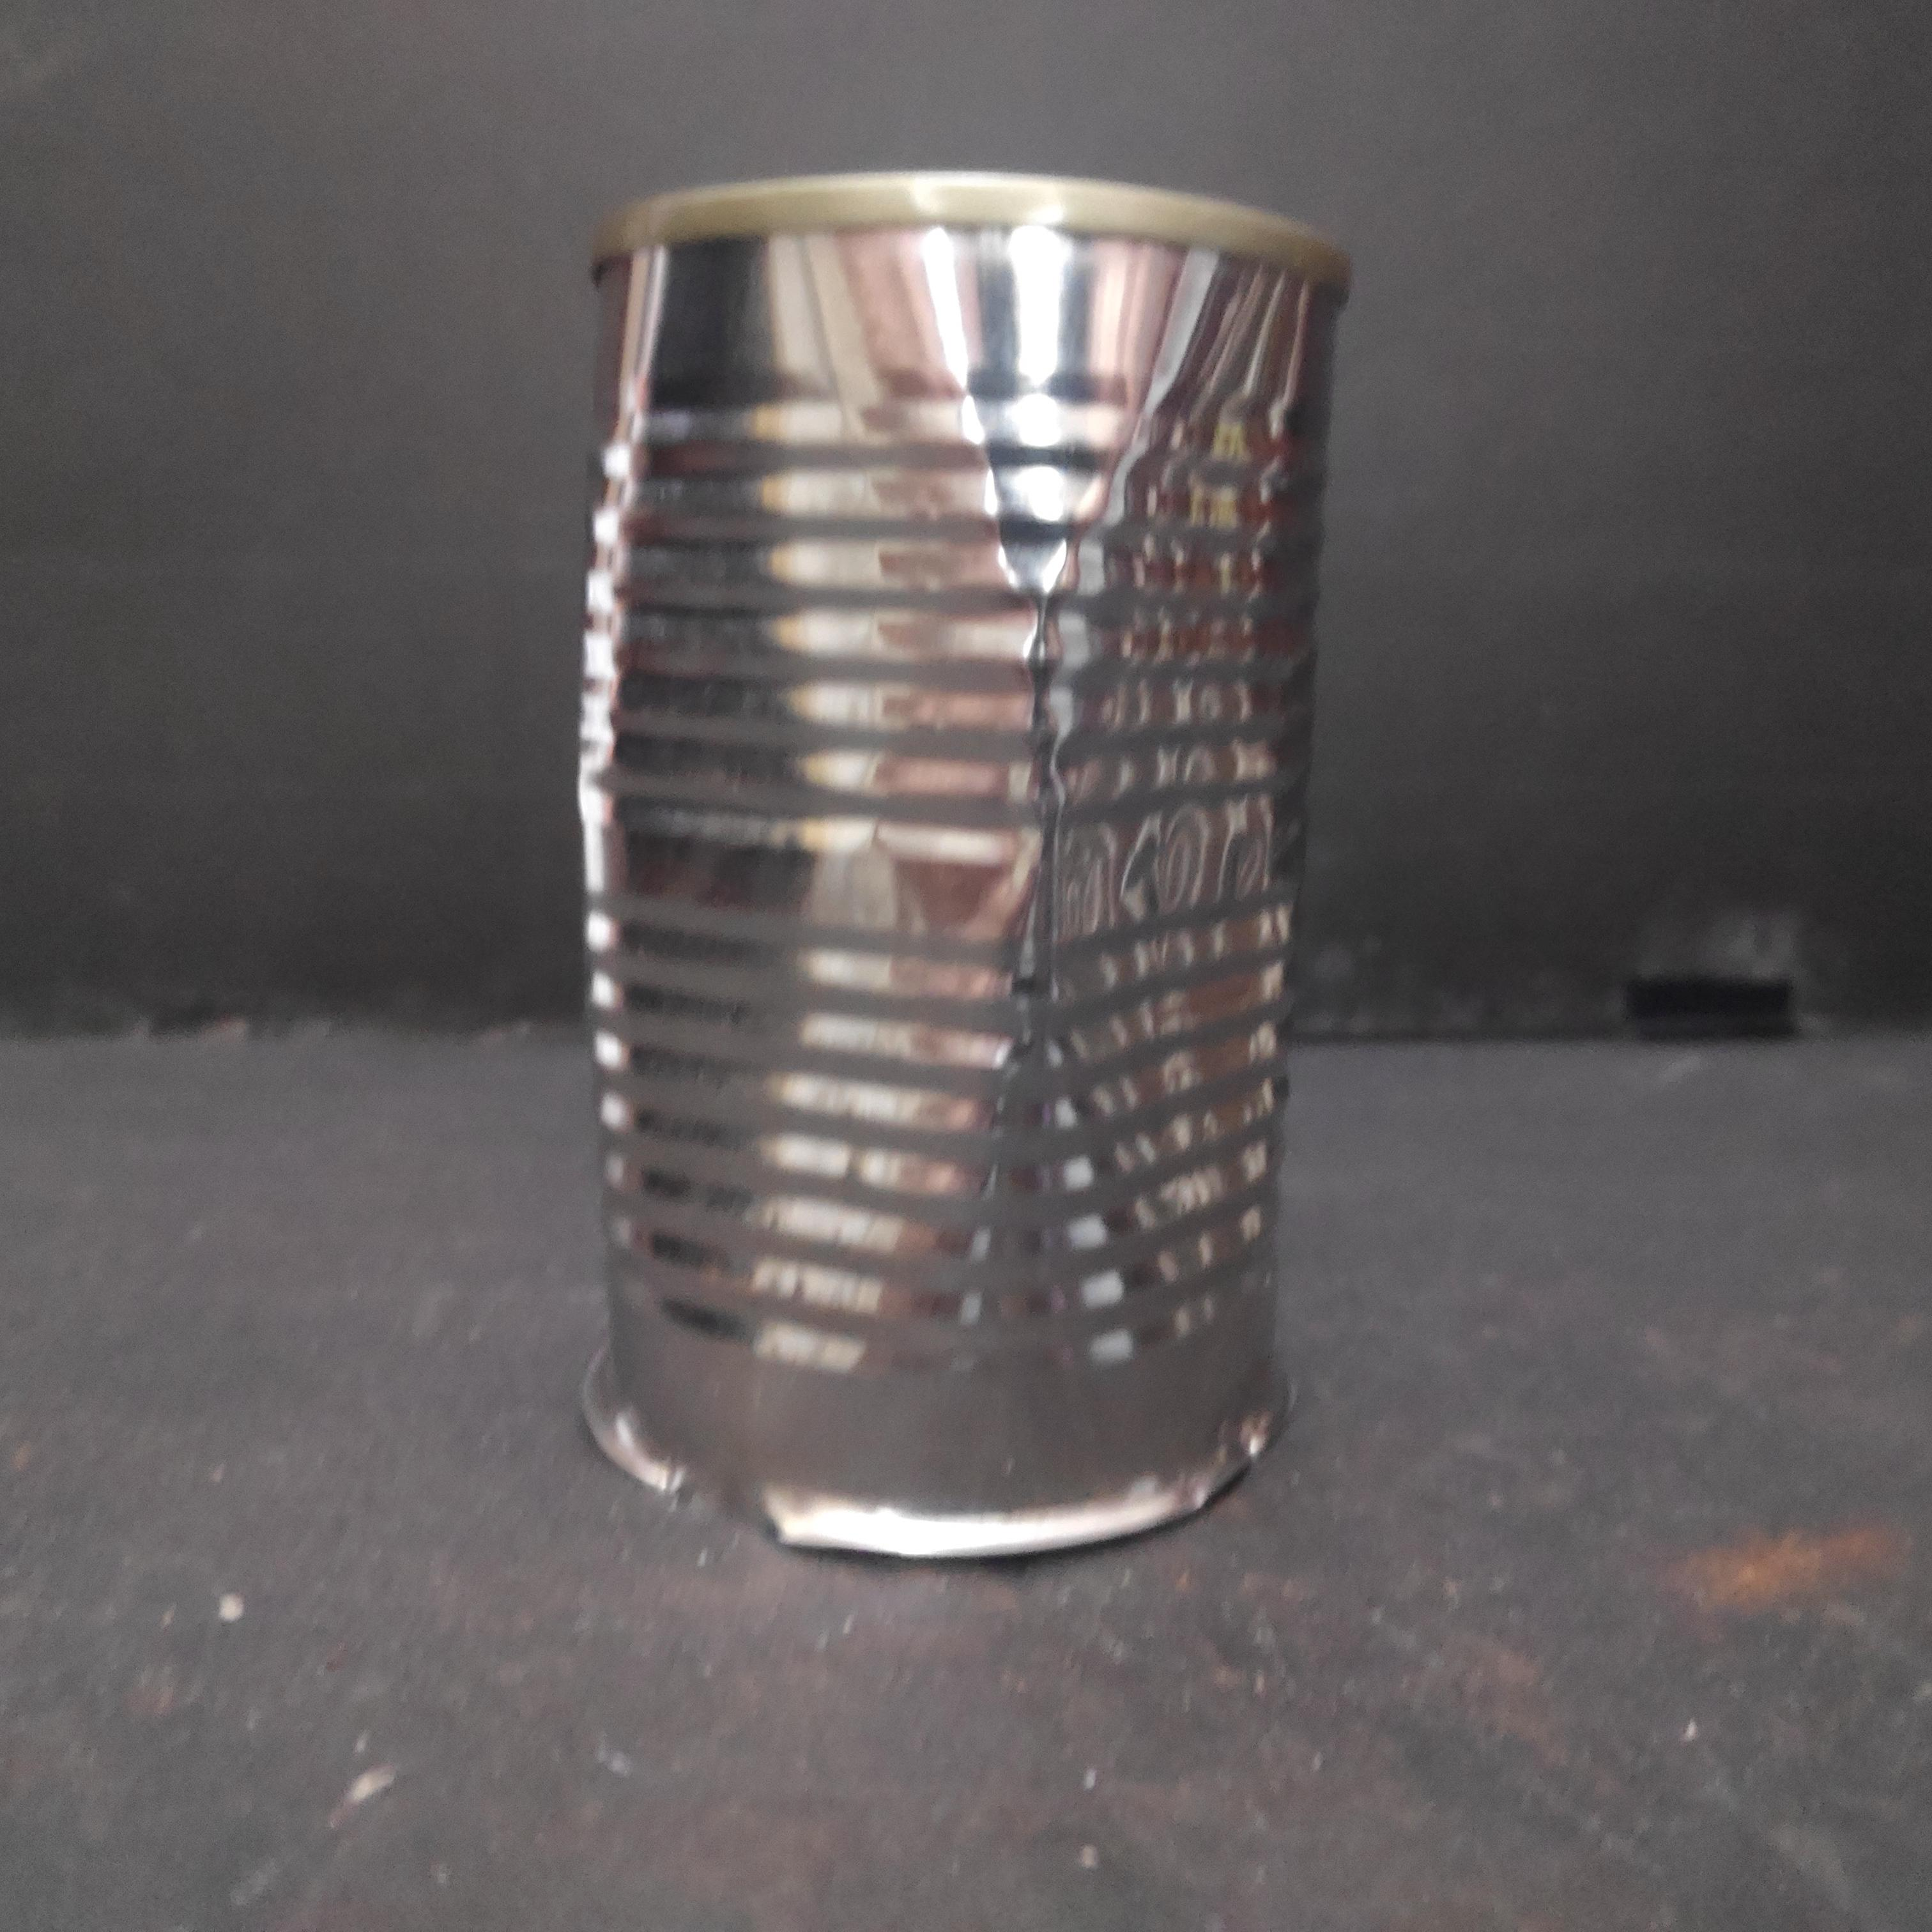Minor Defect: (563, 163, 1357, 1569)
